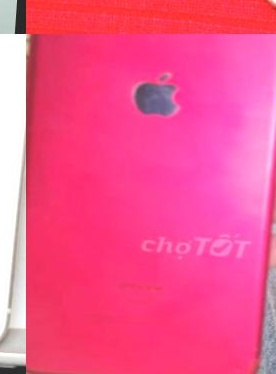scratch: (130, 67, 184, 118), (220, 341, 264, 374)
